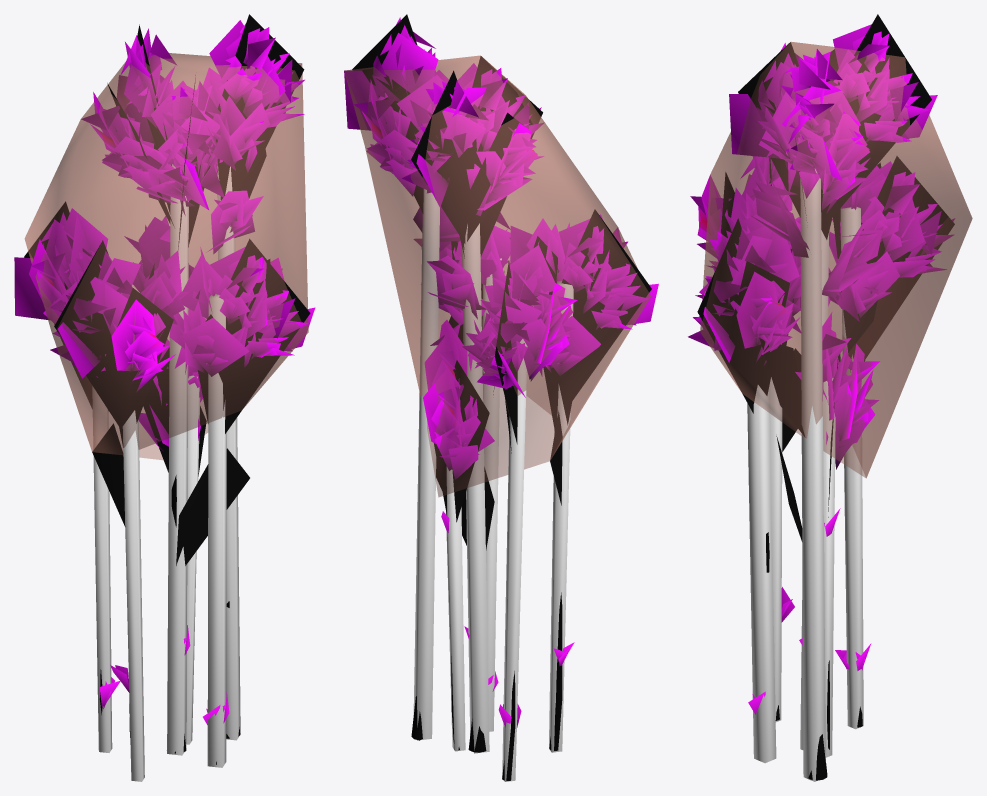
Rendered from tree_aspen_forest_group.dae.
The picture shows the model from 3 angles, left to right: view 1: azimuth 30°, elevation 25°; view 2: azimuth 150°, elevation 25°; view 3: azimuth 270°, elevation 25°; orthographic projection. The views are drawn at different scales.
Visible parts, largest first — view 1: Colmesh_forestgroup-1, Birch_forest_group_a1800, Birch_forest_group_a900; view 2: Colmesh_forestgroup-1, Birch_forest_group_a900, Birch_forest_group_a1800; view 3: Colmesh_forestgroup-1, Birch_forest_group_a1800, Birch_forest_group_a900.
Part boxes in pixels (box(x1,y1,x2,y2)): Colmesh_forestgroup-1: box(24, 53, 308, 781); Birch_forest_group_a1800: box(29, 14, 311, 751); Birch_forest_group_a900: box(14, 20, 315, 764); Colmesh_forestgroup-1: box(344, 55, 650, 781); Birch_forest_group_a900: box(344, 17, 658, 780); Birch_forest_group_a1800: box(347, 14, 648, 779); Colmesh_forestgroup-1: box(700, 41, 972, 781); Birch_forest_group_a1800: box(688, 14, 954, 780); Birch_forest_group_a900: box(690, 34, 954, 769).
Size of the model in its own units: 8.17 by 6.94 by 20.12.
